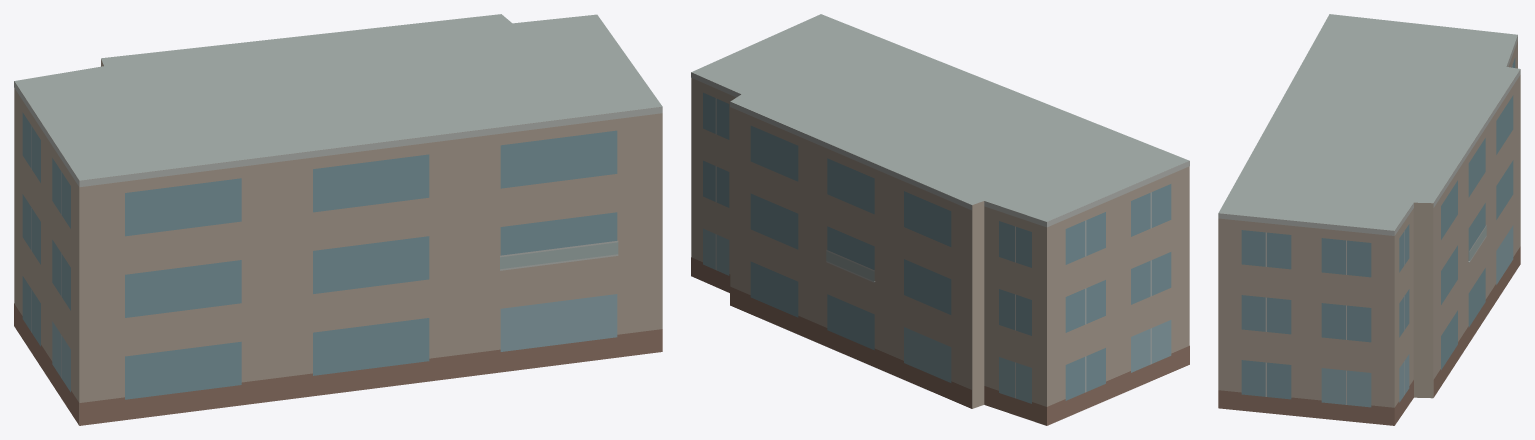
The model's file is survey-upis-32670272.glb.
The picture shows the model from 3 angles, left to right: view 1: azimuth 30°, elevation 25°; view 2: azimuth 150°, elevation 25°; view 3: azimuth 270°, elevation 25°; orthographic projection. The views are drawn at different scales.
Visible parts, largest first — view 1: survey-upis-32670272.tmp; view 2: survey-upis-32670272.tmp; view 3: survey-upis-32670272.tmp.
Boxes of the visible parts, left/top/right/bottom form: survey-upis-32670272.tmp: left=14, top=14, right=662, bottom=425; survey-upis-32670272.tmp: left=691, top=14, right=1189, bottom=425; survey-upis-32670272.tmp: left=1218, top=14, right=1520, bottom=425.
Size of the model in its own units: 21.83 by 9.15 by 12.87.
